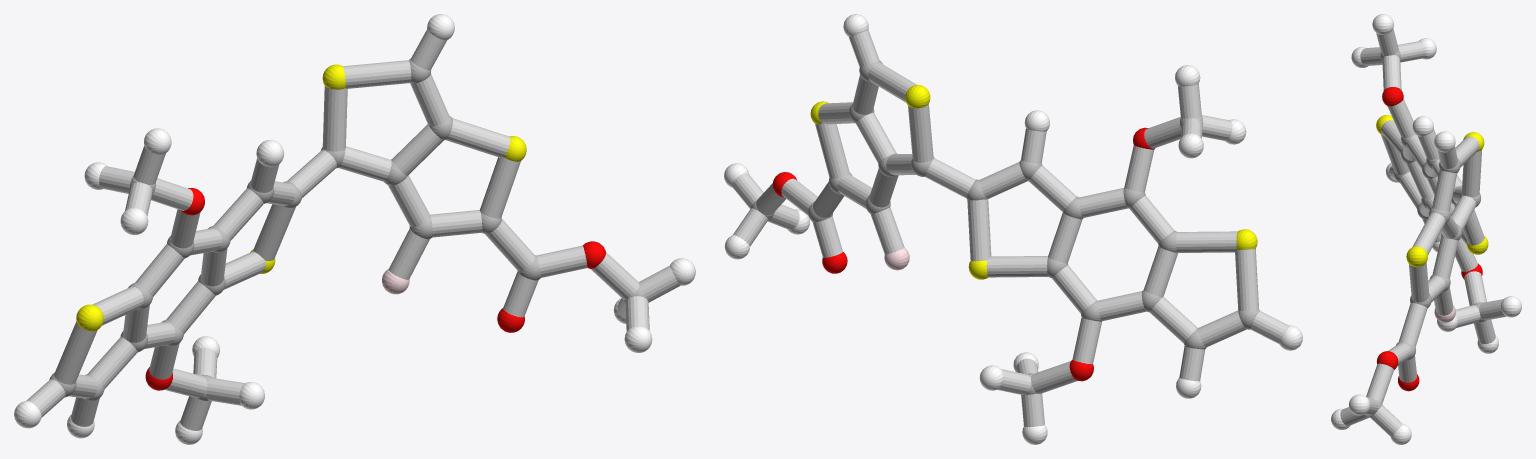
The model's file is color.glb.
The picture shows the model from 3 angles, left to right: view 1: azimuth 30°, elevation 25°; view 2: azimuth 150°, elevation 25°; view 3: azimuth 270°, elevation 25°; orthographic projection. The views are drawn at different scales.
Parts seen in each view (by area): view 1: grp15205, grp8689, grp1, grp7241, grp13395; view 2: grp15205, grp8689, grp1, grp7241, grp13395; view 3: grp15205, grp8689, grp1, grp13395, grp7241.
Part boxes in pixels (box(x1,y1,x2,y2)): grp15205: box(26, 29, 680, 430); grp8689: box(14, 14, 695, 444); grp1: box(49, 59, 645, 401); grp7241: box(76, 64, 526, 331); grp13395: box(145, 188, 605, 390); grp15205: box(732, 29, 1288, 426); grp8689: box(724, 14, 1302, 444); grp1: box(751, 60, 1259, 394); grp7241: box(810, 85, 1257, 279); grp13395: box(772, 127, 1155, 381); grp15205: box(1340, 28, 1506, 436); grp8689: box(1331, 14, 1521, 444); grp1: box(1365, 49, 1486, 417); grp13395: box(1376, 87, 1482, 391); grp7241: box(1376, 115, 1488, 267).
Bounding box in the file's own units: 16.27 × 9.37 × 5.31.
